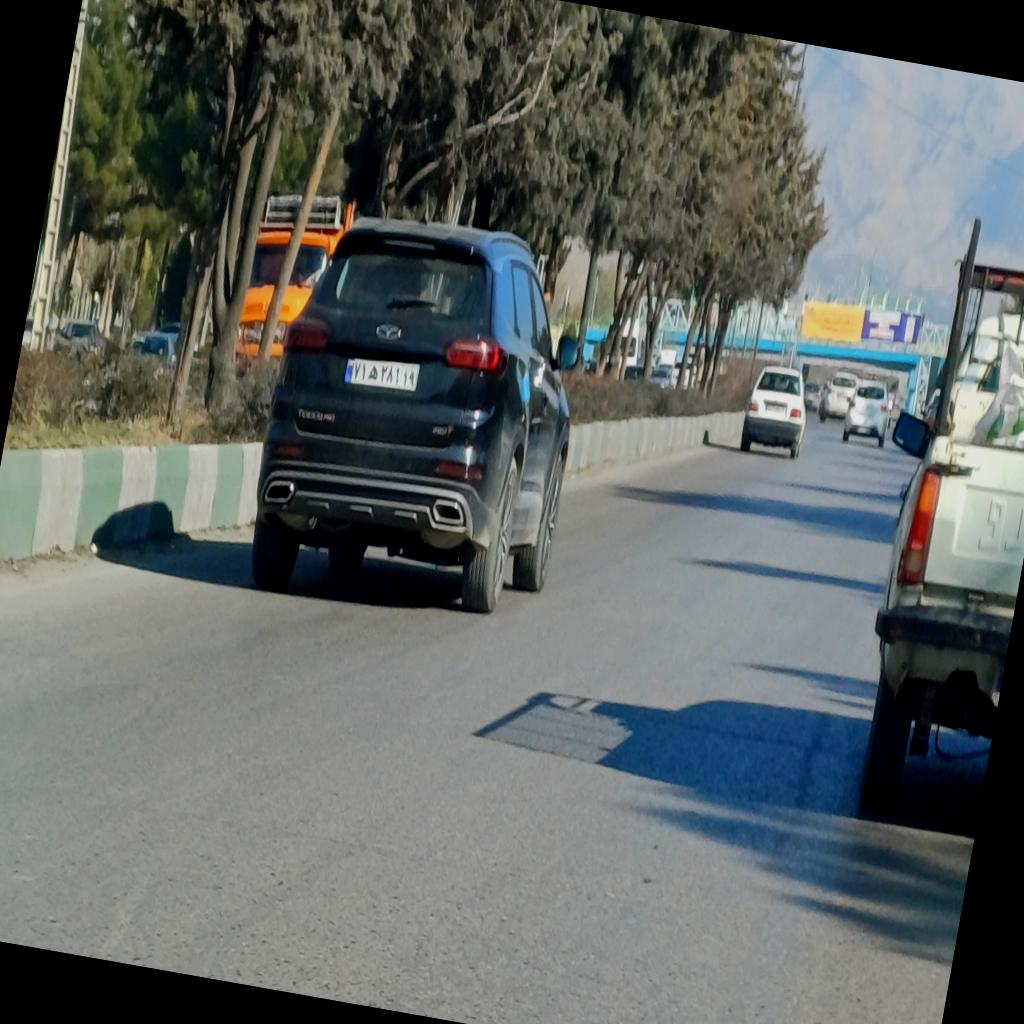Plates: (344, 352, 420, 396)
